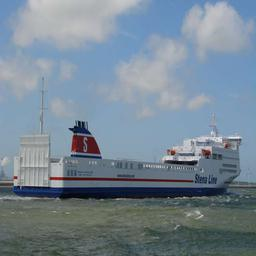Ship: (10, 104, 245, 202)
